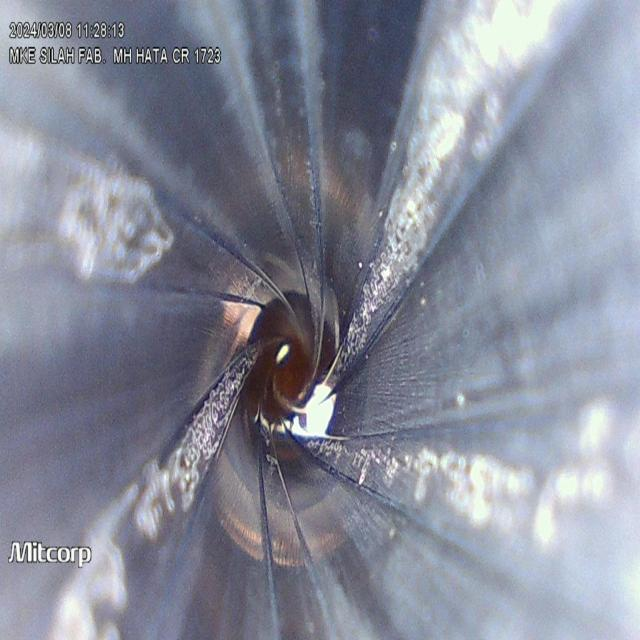hata_9.3: (29, 318, 281, 624), (335, 30, 528, 375)
